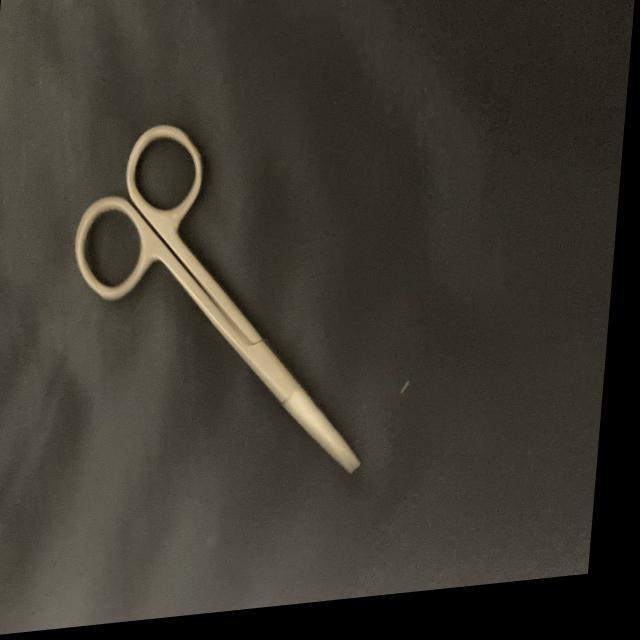scissor: (45, 95, 403, 527)
